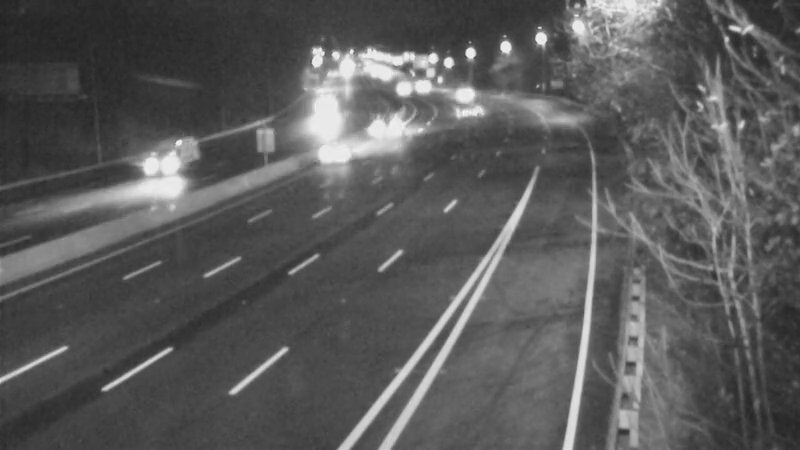vehicle: (295, 113, 375, 193), (124, 117, 204, 197), (376, 65, 426, 115), (399, 61, 449, 111), (440, 68, 490, 118), (448, 84, 498, 134), (359, 104, 409, 154), (299, 80, 349, 130)
